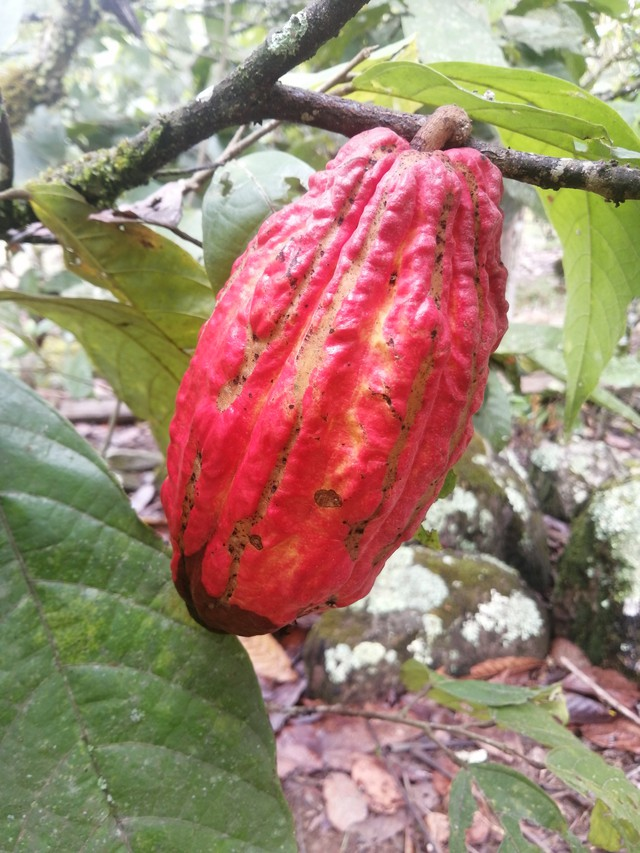phytophthora palmivora: (150, 112, 522, 645)
